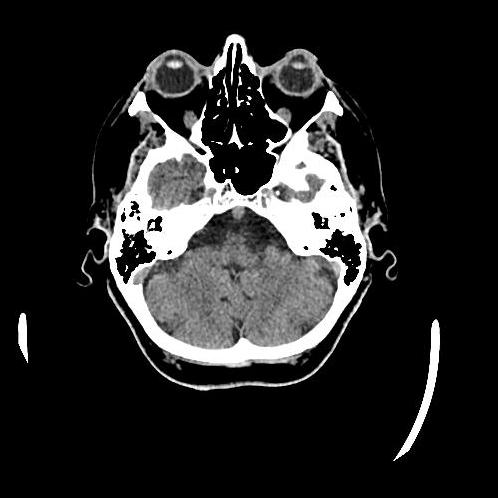Normal_Brain: (77, 28, 398, 401)
